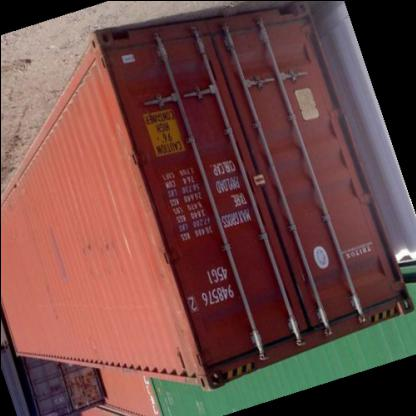Damage: (184, 96, 229, 151), (76, 238, 138, 262), (51, 216, 70, 283), (37, 284, 59, 331)
